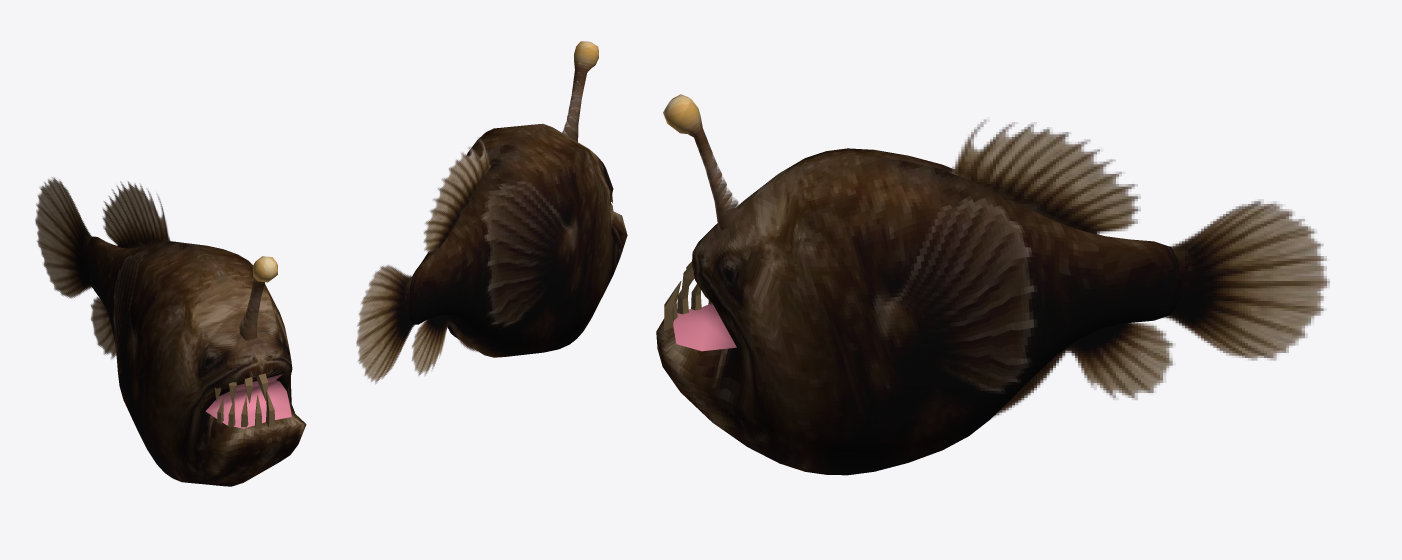
The model's file is angler.glb.
The picture shows the model from 3 angles, left to right: view 1: azimuth 30°, elevation 25°; view 2: azimuth 150°, elevation 25°; view 3: azimuth 270°, elevation 25°; orthographic projection. The views are drawn at different scales.
Parts seen in each view (by area): view 1: Body, Plane, Teef, Thingy; view 2: Body, Plane, Thingy; view 3: Body, Plane, Thingy, Teef.
Part boxes in pixels (x1,y1,x2,y2): Body: [88, 236, 306, 486]; Plane: [35, 177, 170, 359]; Teef: [214, 367, 275, 428]; Thingy: [239, 256, 277, 343]; Body: [409, 123, 627, 357]; Plane: [356, 137, 491, 384]; Thingy: [562, 41, 598, 141]; Body: [656, 148, 1179, 475]; Plane: [949, 119, 1329, 417]; Thingy: [663, 94, 740, 230]; Teef: [664, 261, 712, 330].
Size of the model in its own units: 1.24 by 3.57 by 4.44.
Materials: 3 (1 with a texture image).
